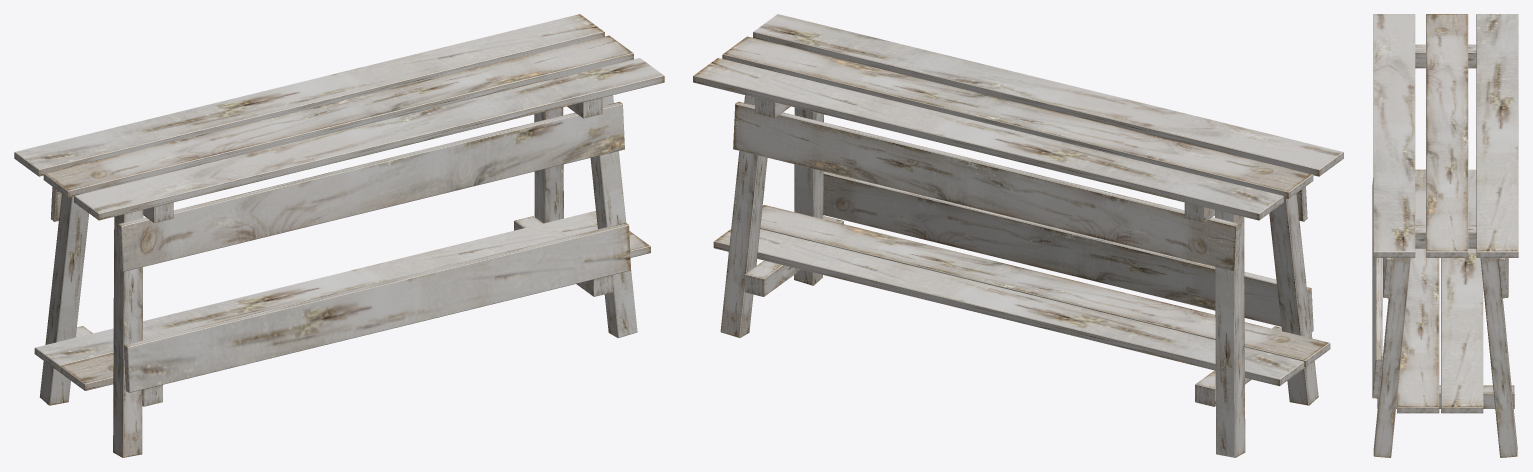
File: workbench01.obj
3 renders of one model, left to right at view 1: azimuth 30°, elevation 25°; view 2: azimuth 150°, elevation 25°; view 3: azimuth 270°, elevation 25°, orthographic. The views are drawn at different scales.
Visible parts, largest first — view 1: Box01; view 2: Box01; view 3: Box01.
Boxes of the visible parts, x1,y1,x2,y2 form: Box01: (14,14,664,457); Box01: (693,14,1343,457); Box01: (1372,14,1518,457).
Bounding box in the file's own units: 1.84 × 0.7878 × 0.4786.
1 material, 1 textured.
